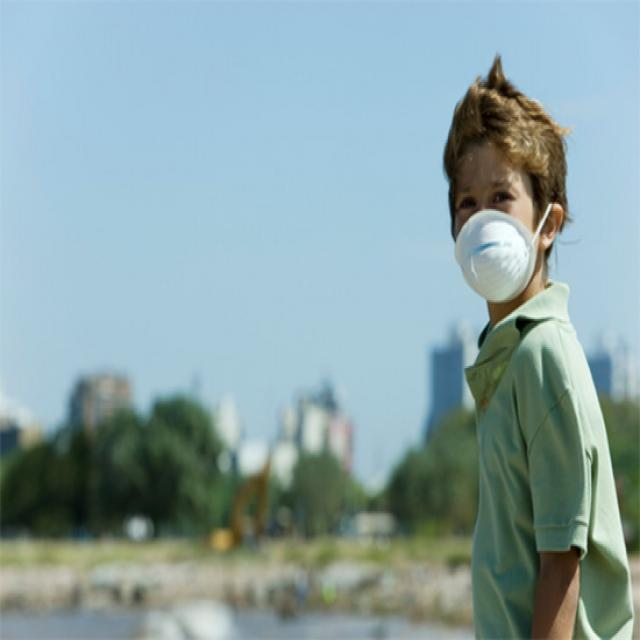mask: (453, 146, 538, 300)
